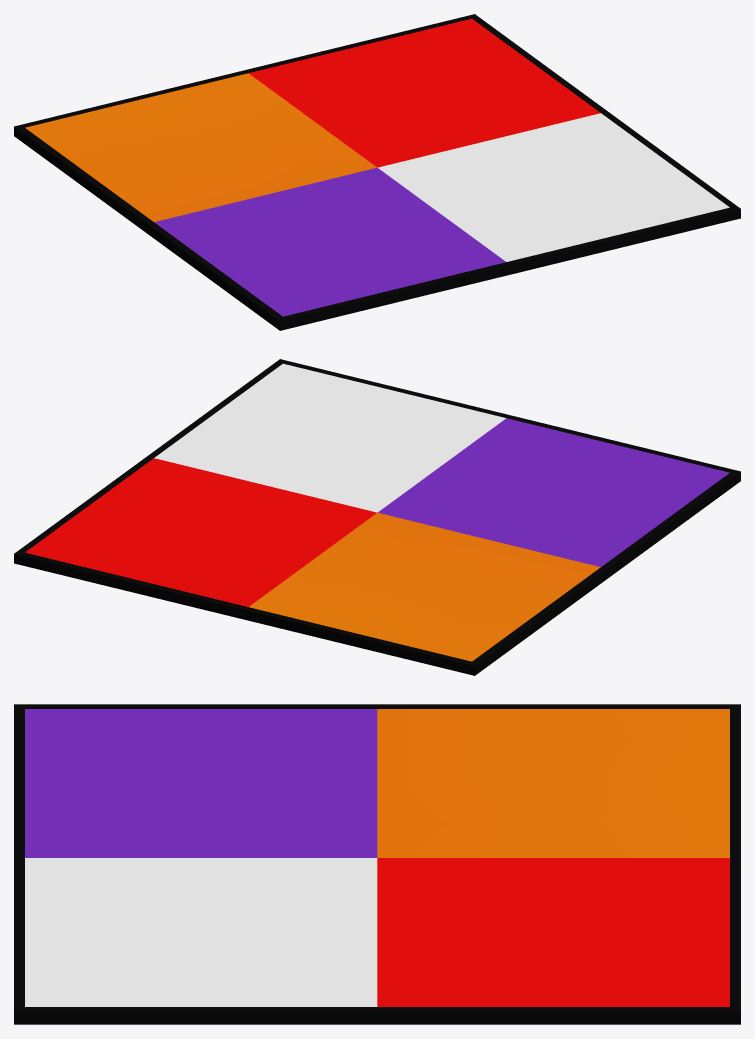
Rendered from Ground_Disco_2.fbx.
3 renders of one model, top to bottom at view 1: azimuth 30°, elevation 25°; view 2: azimuth 150°, elevation 25°; view 3: azimuth 270°, elevation 25°, orthographic. The views are drawn at different scales.
Parts seen in each view (by area): view 1: Ground_Disco_2; view 2: Ground_Disco_2; view 3: Ground_Disco_2.
Part boxes in pixels (left/top/right/bottom): Ground_Disco_2: left=14, top=14, right=740, bottom=330; Ground_Disco_2: left=14, top=359, right=740, bottom=675; Ground_Disco_2: left=14, top=704, right=740, bottom=1024.
Size of the model in its own units: 2 by 0.04 by 2.
